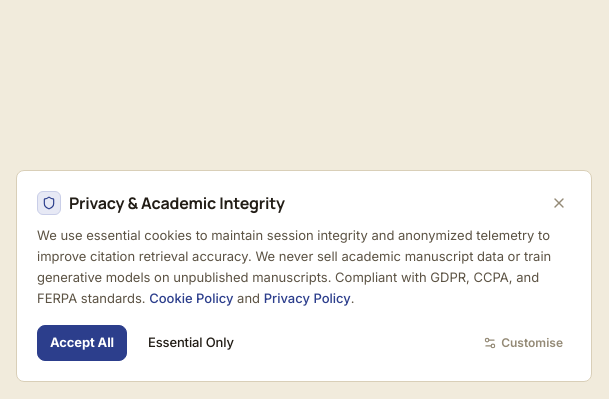
Test: Milestone 3 Empirical Adversarial Challenge: Cookie Consent & Footer Event Bus › handles corrupted JSON in localStorage COOKIE_SETTINGS_KEY gracefully
Note: Customise should still open properly
What coordinates should you click on to do the following:
click the button with test id "cookie-btn-customise"
I would click on:
 (523, 343)
Its box is [475, 329, 571, 357].
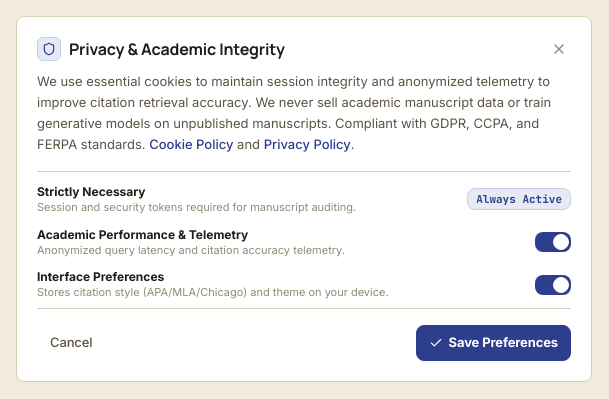
Result: the element with test id "cookie-custom-drawer" is shown at [37, 171, 571, 309]
